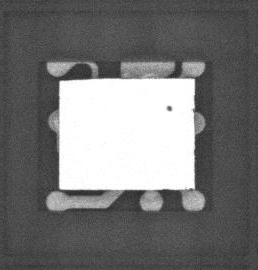DIE_INK: (157, 108, 166, 118)
